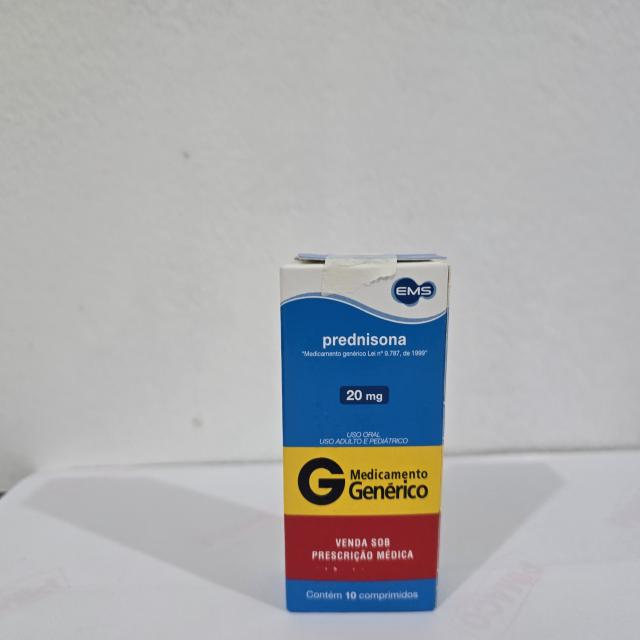prednisona: (274, 250, 455, 616)
